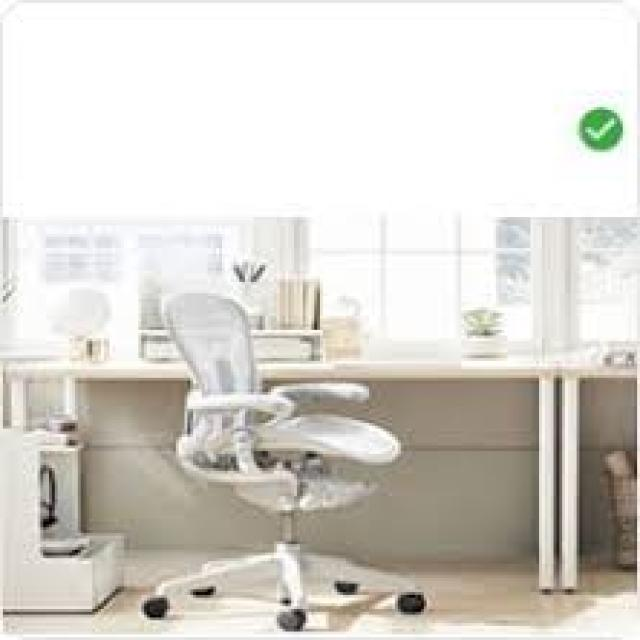chair: (114, 269, 449, 640)
